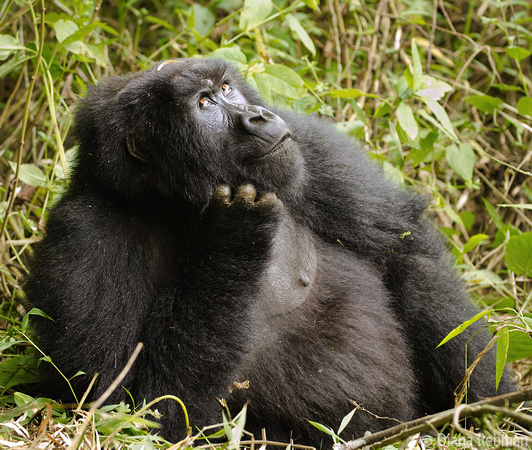Goriila: (57, 34, 501, 450)
